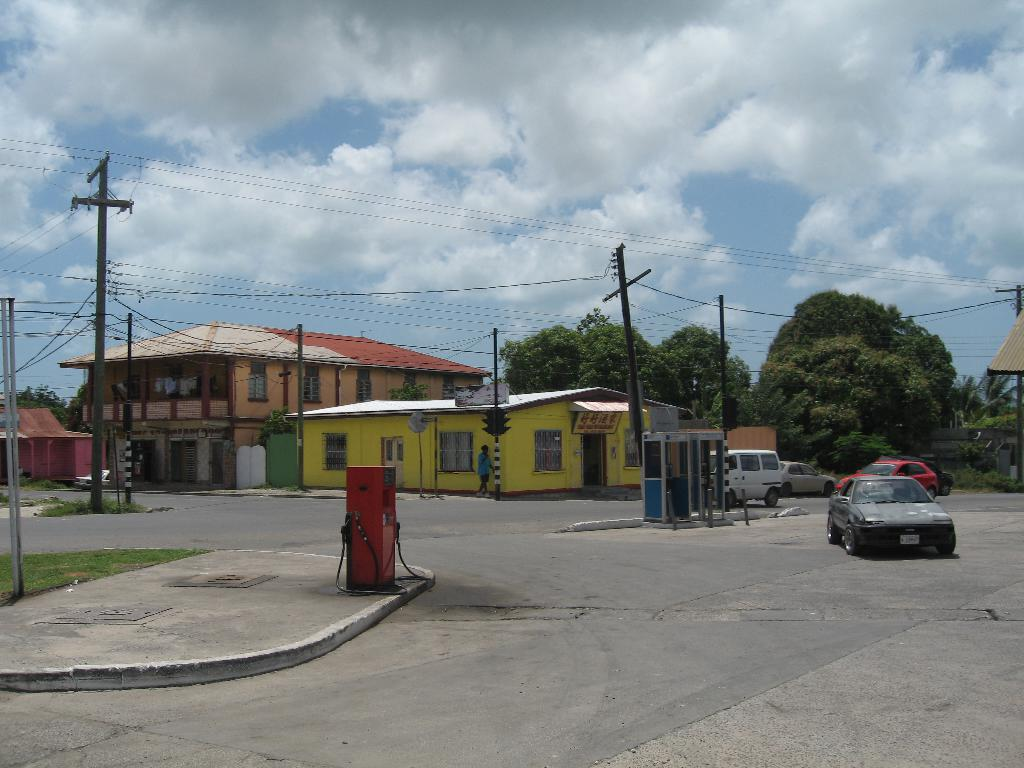Car: (840, 456, 947, 500), (775, 463, 837, 495), (71, 471, 111, 487)
